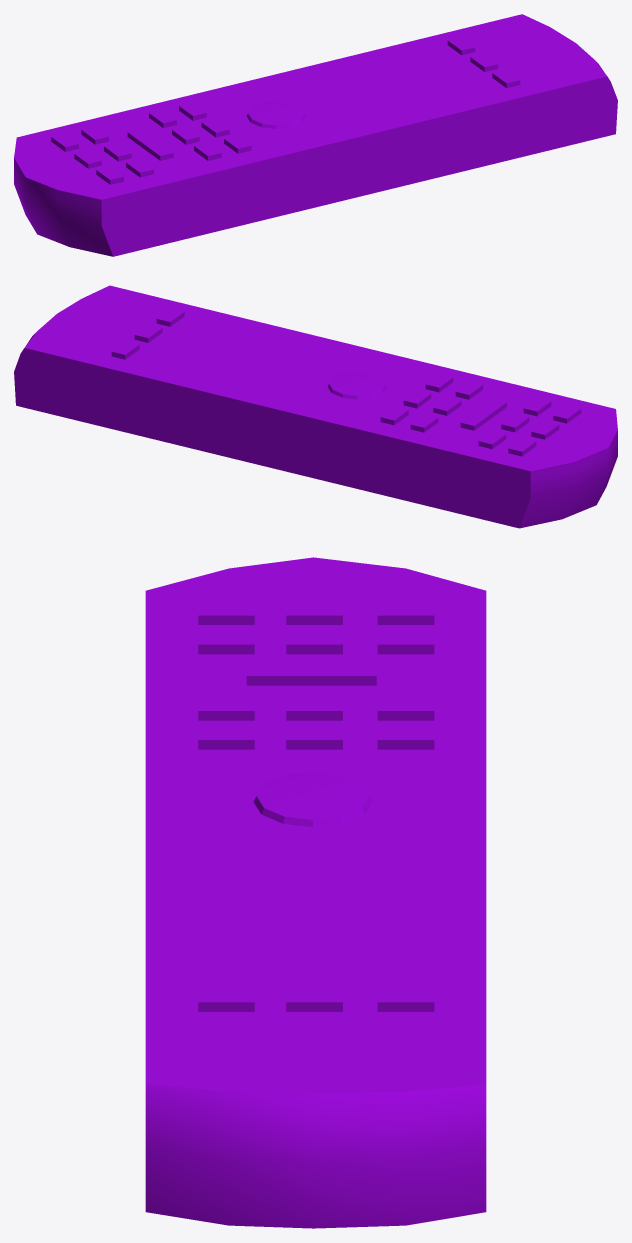
Rendered from Remote_Control.fbx.
3 views of the same model, one above another, from view 1: azimuth 30°, elevation 25°; view 2: azimuth 150°, elevation 25°; view 3: azimuth 270°, elevation 25° (orthographic). The views are drawn at different scales.
Visible parts, largest first — view 1: Remote_Control; view 2: Remote_Control; view 3: Remote_Control.
Part boxes in pixels (bbox=[...]): Remote_Control: bbox=[14, 14, 617, 256]; Remote_Control: bbox=[14, 285, 617, 528]; Remote_Control: bbox=[145, 557, 486, 1228].
Size of the model in its own units: 148 by 16.15 by 38.55.
